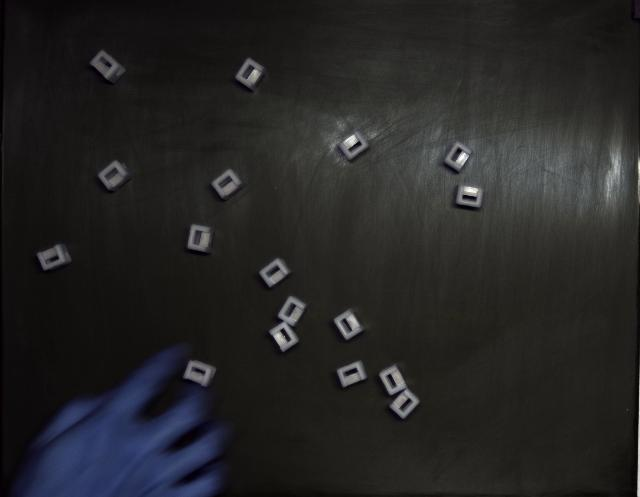fourth_side: (90, 50, 125, 84), (98, 160, 132, 191), (211, 169, 245, 200), (235, 58, 266, 91), (182, 360, 216, 388), (334, 309, 364, 340), (259, 259, 291, 288), (36, 245, 71, 271), (339, 131, 369, 160), (444, 141, 472, 172), (188, 225, 215, 254), (456, 185, 484, 208)
